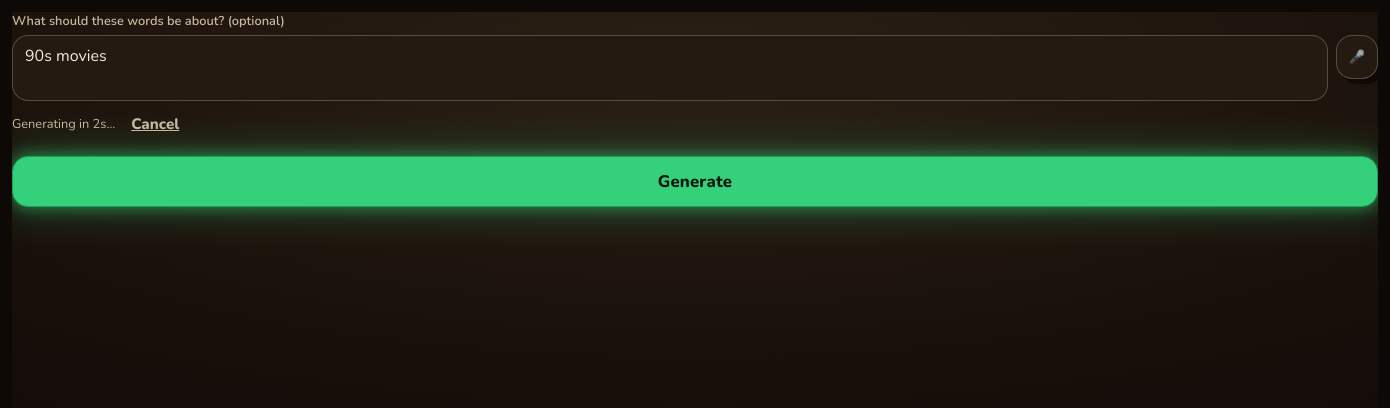
AdminGenerateForm › cancels the auto-submit countdown when Cancel is clicked
This screenshot has width=1390, height=408.
Click the button "Cancel": (155, 125) [123,105,187,144]
Wait 2000 ms
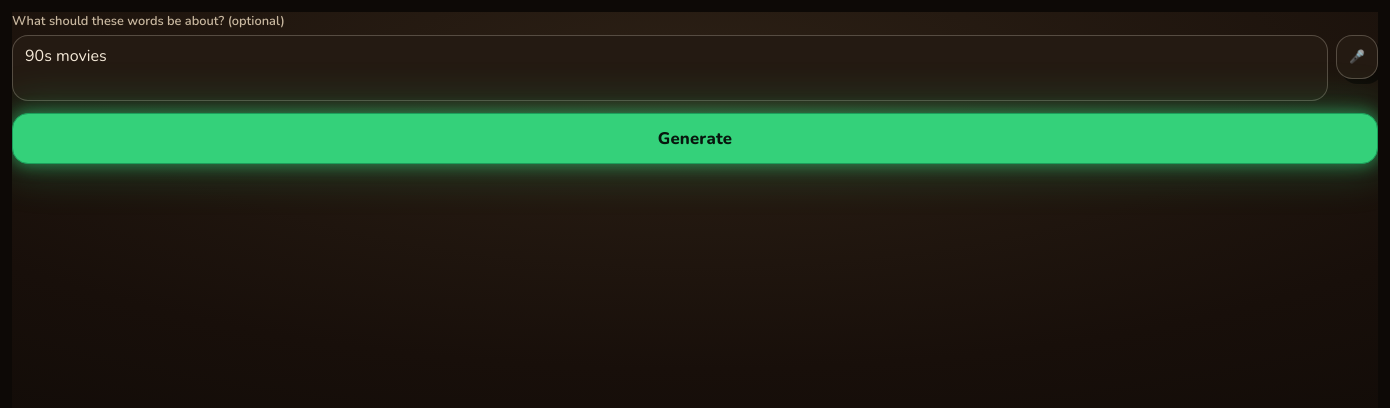
Now the text "Generating in" is gone
